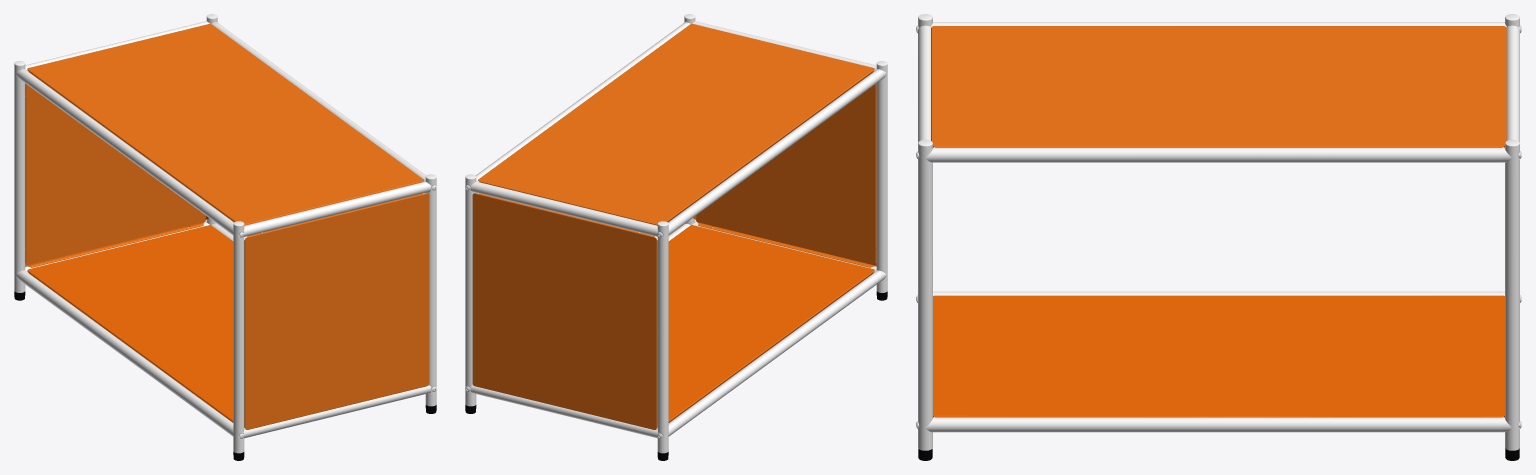
Rendered from 80x40x40-1-8-Orange_optimized.glb.
3 renders of one model, left to right at view 1: azimuth 30°, elevation 25°; view 2: azimuth 150°, elevation 25°; view 3: azimuth 270°, elevation 25°, orthographic. The views are drawn at different scales.
Parts seen in each view (by area): view 1: 直角鐵板-80x40-3 - 零件, 鐵管-1層-40-正常腳-32mm-4 - 零件; view 2: 直角鐵板-80x40-3 - 零件, 鐵管-1層-40-正常腳-32mm-4 - 零件; view 3: 直角鐵板-80x40-3 - 零件, 鐵管-1層-40-正常腳-32mm-4 - 零件.
Boxes of the visible parts, x1=… form: 直角鐵板-80x40-3 - 零件: x1=25, y1=23, x2=429, y2=429; 鐵管-1層-40-正常腳-32mm-4 - 零件: x1=14, y1=14, x2=436, y2=453; 直角鐵板-80x40-3 - 零件: x1=472, y1=23, x2=876, y2=429; 鐵管-1層-40-正常腳-32mm-4 - 零件: x1=465, y1=14, x2=887, y2=453; 直角鐵板-80x40-3 - 零件: x1=931, y1=26, x2=1506, y2=417; 鐵管-1層-40-正常腳-32mm-4 - 零件: x1=916, y1=14, x2=1521, y2=450.
Size of the model in its own units: 0.3992 by 0.4453 by 0.7732.
